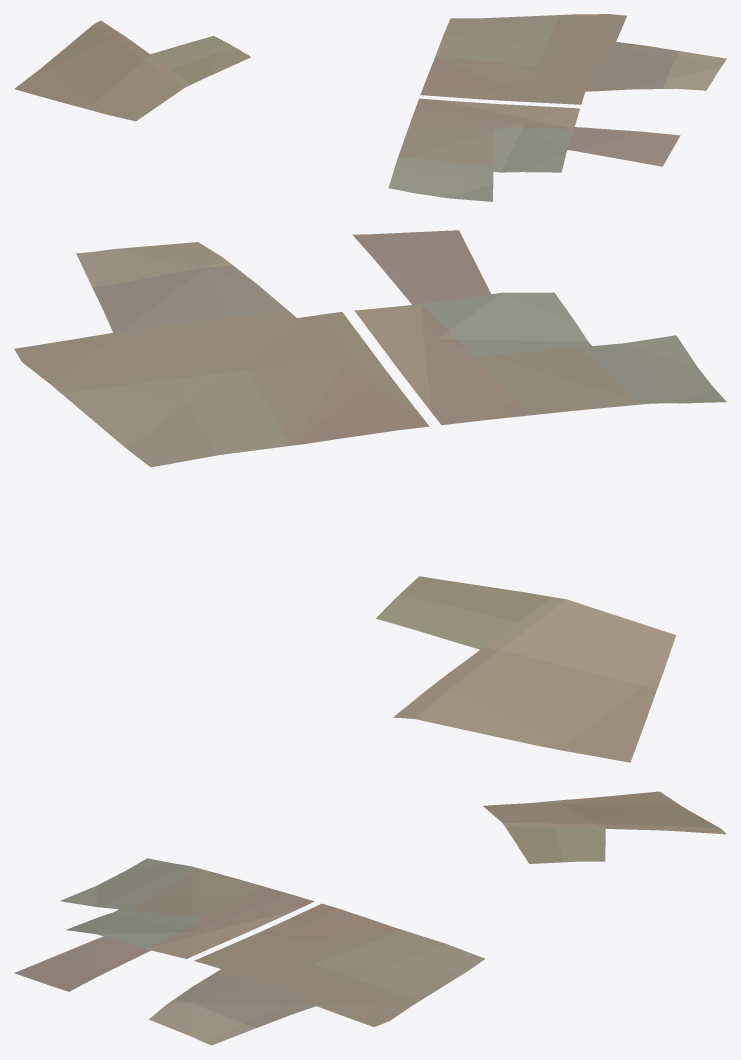
Rendered from farm_-3_12_soil.glb.
3 views of the same model, one above another, from view 1: azimuth 30°, elevation 25°; view 2: azimuth 150°, elevation 25°; view 3: azimuth 270°, elevation 25° (orthographic). The views are drawn at different scales.
Visible parts, largest first — view 1: geometry_0; view 2: geometry_0; view 3: geometry_0.
Part boxes in pixels (box(x1,y1,x2,y2)): geometry_0: box(14, 14, 726, 201); geometry_0: box(14, 230, 726, 762); geometry_0: box(14, 791, 726, 1045).
Size of the model in its own units: 600 by 47.34 by 597.
